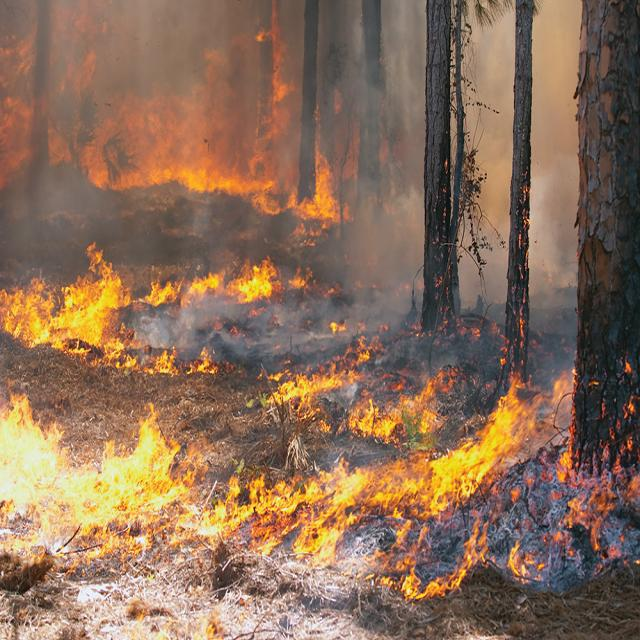Fire: (0, 149, 640, 588)
Smoke: (0, 0, 598, 264)
